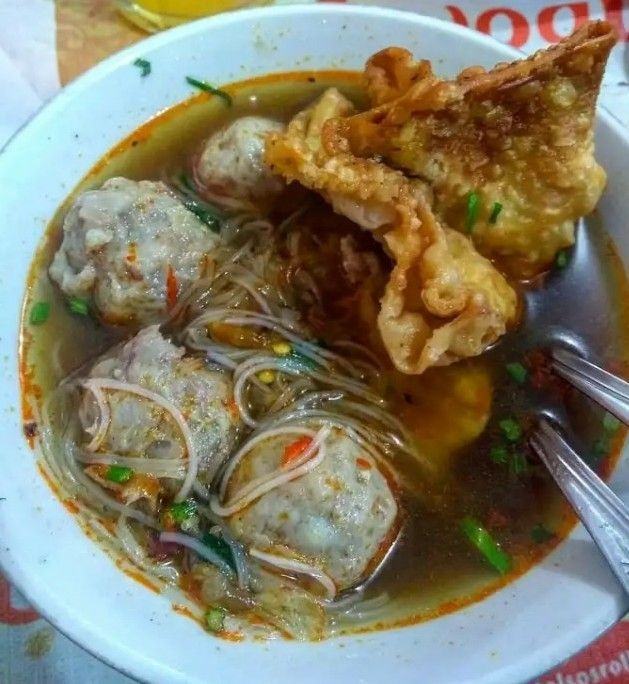bakso_malang: (46, 21, 619, 640)
